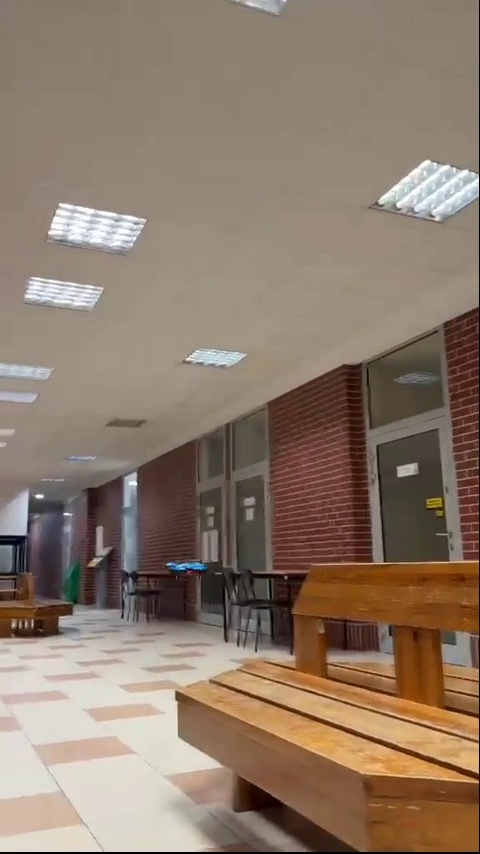drone: (162, 560, 206, 577)
